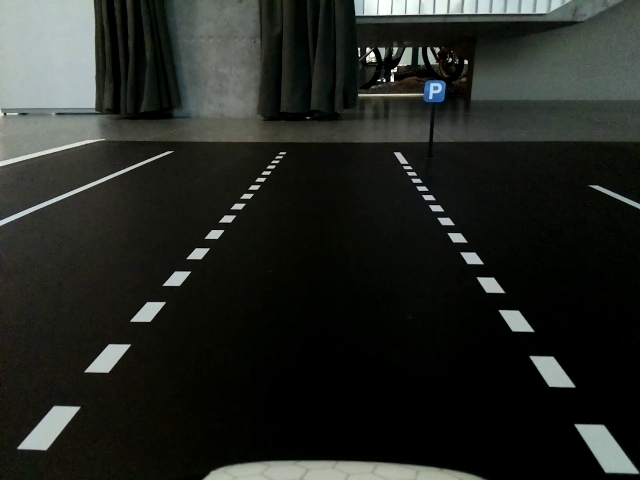park: (424, 79, 446, 103)
